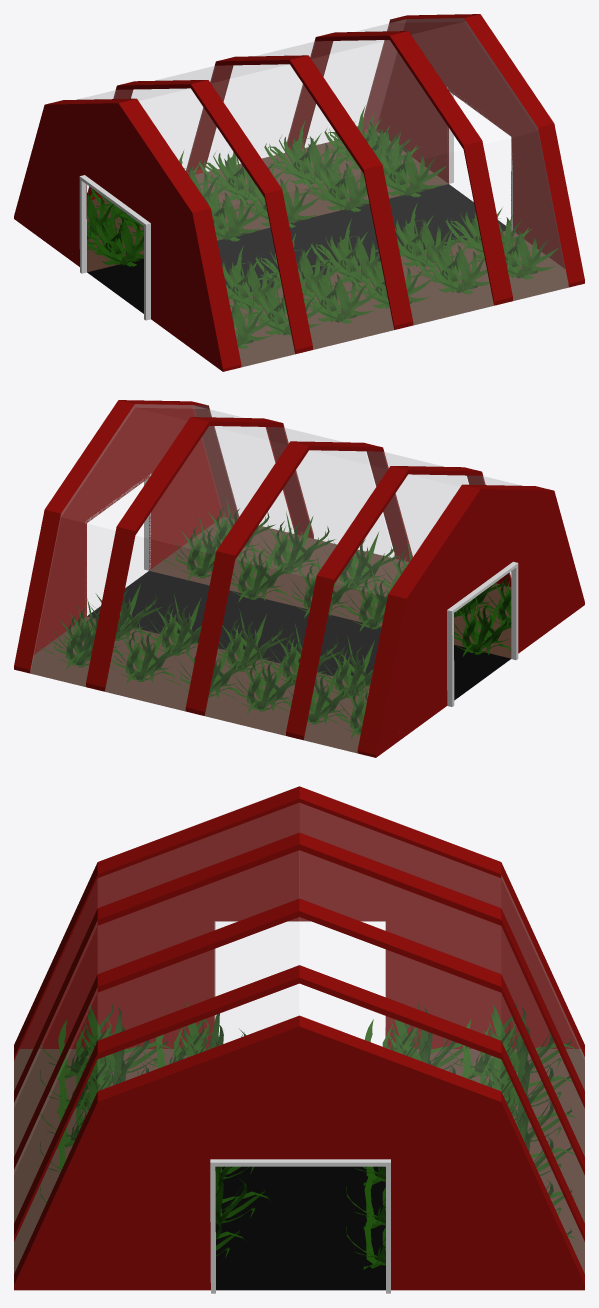
File: serum_1 (1).fbx
The picture shows the model from 3 angles, top to bottom: view 1: azimuth 30°, elevation 25°; view 2: azimuth 150°, elevation 25°; view 3: azimuth 270°, elevation 25°; orthographic projection. The views are drawn at different scales.
Visible parts, largest first — view 1: Cylinder; view 2: Cylinder; view 3: Cylinder.
Boxes of the visible parts, box(x1,y1,x2,y2) form: Cylinder: box(14, 14, 584, 371); Cylinder: box(14, 400, 584, 757); Cylinder: box(14, 786, 584, 1293).
Size of the model in its own units: 227 by 113 by 220.
